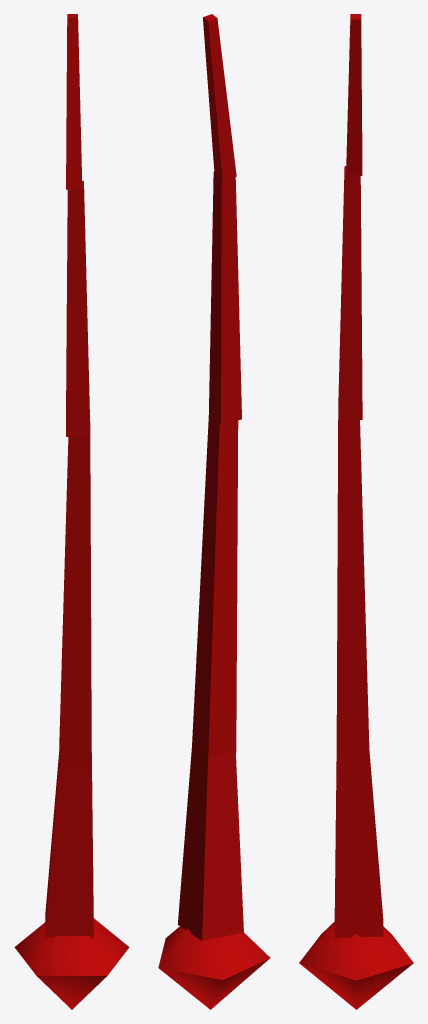
File: SM_Env_Tree_Palm_03_Collision.gltf
3 renders of one model, left to right at view 1: azimuth 90°, elevation 25°; view 2: azimuth 210°, elevation 25°; view 3: azimuth 270°, elevation 25°, orthographic.
Parts seen in each view (by area): view 1: SM_Env_Tree_Palm_03_Collision; view 2: SM_Env_Tree_Palm_03_Collision; view 3: SM_Env_Tree_Palm_03_Collision.
Part boxes in pixels (bbox=[...]): SM_Env_Tree_Palm_03_Collision: bbox=[14, 14, 129, 1009]; SM_Env_Tree_Palm_03_Collision: bbox=[158, 14, 270, 1009]; SM_Env_Tree_Palm_03_Collision: bbox=[299, 14, 413, 1009].
Bounding box in the file's own units: 1.08 × 10.86 × 1.14.
